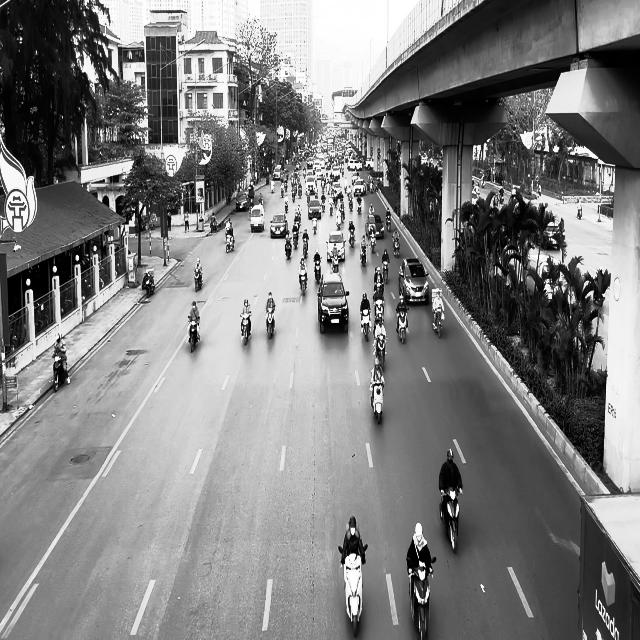car: (317, 272, 349, 334), (398, 257, 429, 304), (538, 220, 564, 250), (326, 230, 346, 261), (270, 213, 288, 238), (366, 214, 384, 239), (250, 205, 264, 232), (308, 198, 321, 219), (235, 191, 248, 211)
motorbike: (338, 542, 368, 636), (408, 557, 436, 639), (439, 486, 462, 554), (370, 373, 384, 424), (52, 354, 70, 392), (187, 315, 200, 353), (396, 306, 408, 343), (432, 304, 444, 338), (374, 334, 386, 368), (240, 312, 251, 346), (361, 309, 372, 341), (265, 305, 275, 339), (144, 270, 155, 298), (298, 270, 308, 294), (284, 233, 292, 260), (313, 258, 321, 284), (194, 268, 202, 291), (226, 231, 234, 253)
